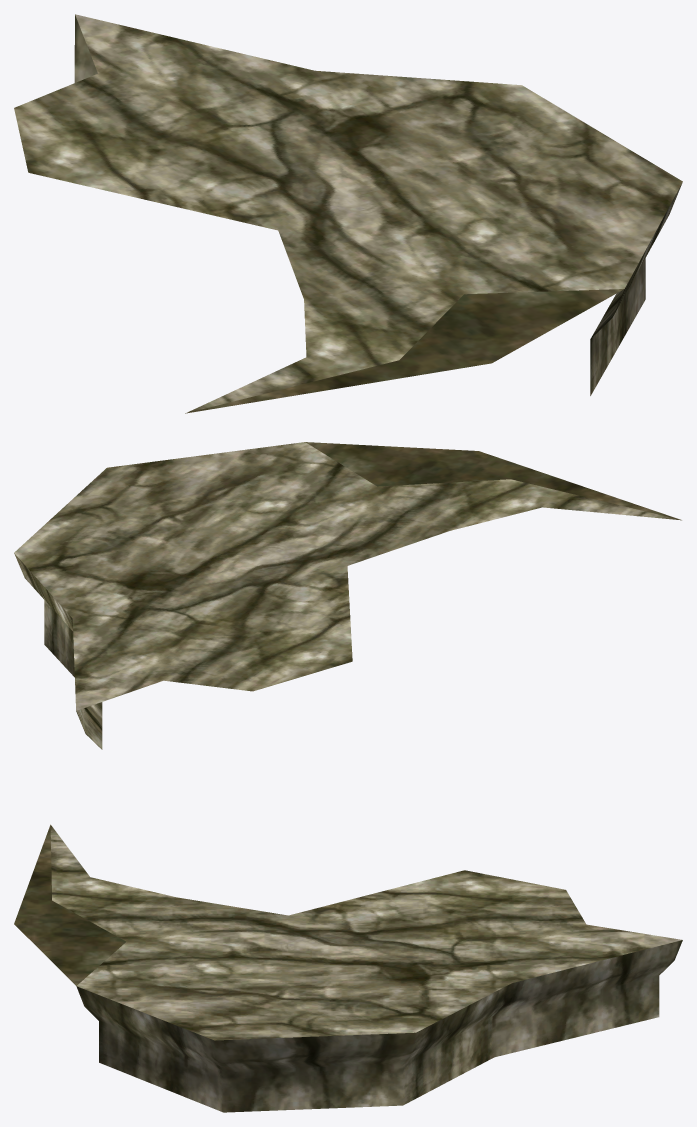
The model's file is CB_NEWPLAYSURFACE_CB_PLAYSURFACE136.fbx.
3 views of the same model, one above another, from view 1: azimuth 30°, elevation 25°; view 2: azimuth 150°, elevation 25°; view 3: azimuth 270°, elevation 25° (orthographic). The views are drawn at different scales.
Visible parts, largest first — view 1: CB_NEWPLAYSURFACE_CB_PLAYSURFACE136; view 2: CB_NEWPLAYSURFACE_CB_PLAYSURFACE136; view 3: CB_NEWPLAYSURFACE_CB_PLAYSURFACE136.
Boxes of the visible parts, <box> form: CB_NEWPLAYSURFACE_CB_PLAYSURFACE136: <box>14,14,682,413</box>; CB_NEWPLAYSURFACE_CB_PLAYSURFACE136: <box>14,442,681,749</box>; CB_NEWPLAYSURFACE_CB_PLAYSURFACE136: <box>14,824,682,1112</box>.
Bounding box in the file's own units: 111545 × 20000 × 145899.
Materials: 3 (3 with a texture image).
